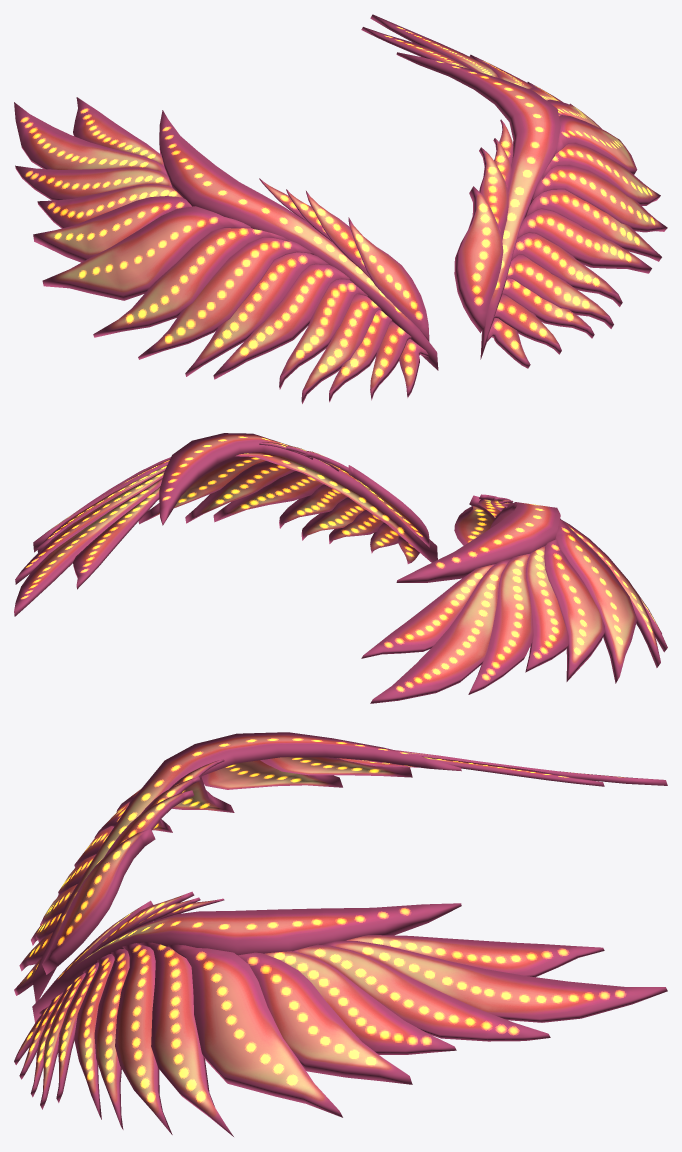
Rendered from dragon's_wings(2).glb.
3 views of the same model, one above another, from view 1: azimuth 30°, elevation 25°; view 2: azimuth 150°, elevation 25°; view 3: azimuth 270°, elevation 25° (orthographic). The views are drawn at different scales.
Visible parts, largest first — view 1: Dragon's Wings(2); view 2: Dragon's Wings(2); view 3: Dragon's Wings(2).
Boxes of the visible parts, box(x1,y1,x2,y2) form: Dragon's Wings(2): box(14, 14, 667, 403); Dragon's Wings(2): box(14, 433, 667, 703); Dragon's Wings(2): box(14, 732, 667, 1136).
Size of what is drawn, in the model's own units: 17.54 by 4.99 by 14.54.
1 material, 1 textured.
